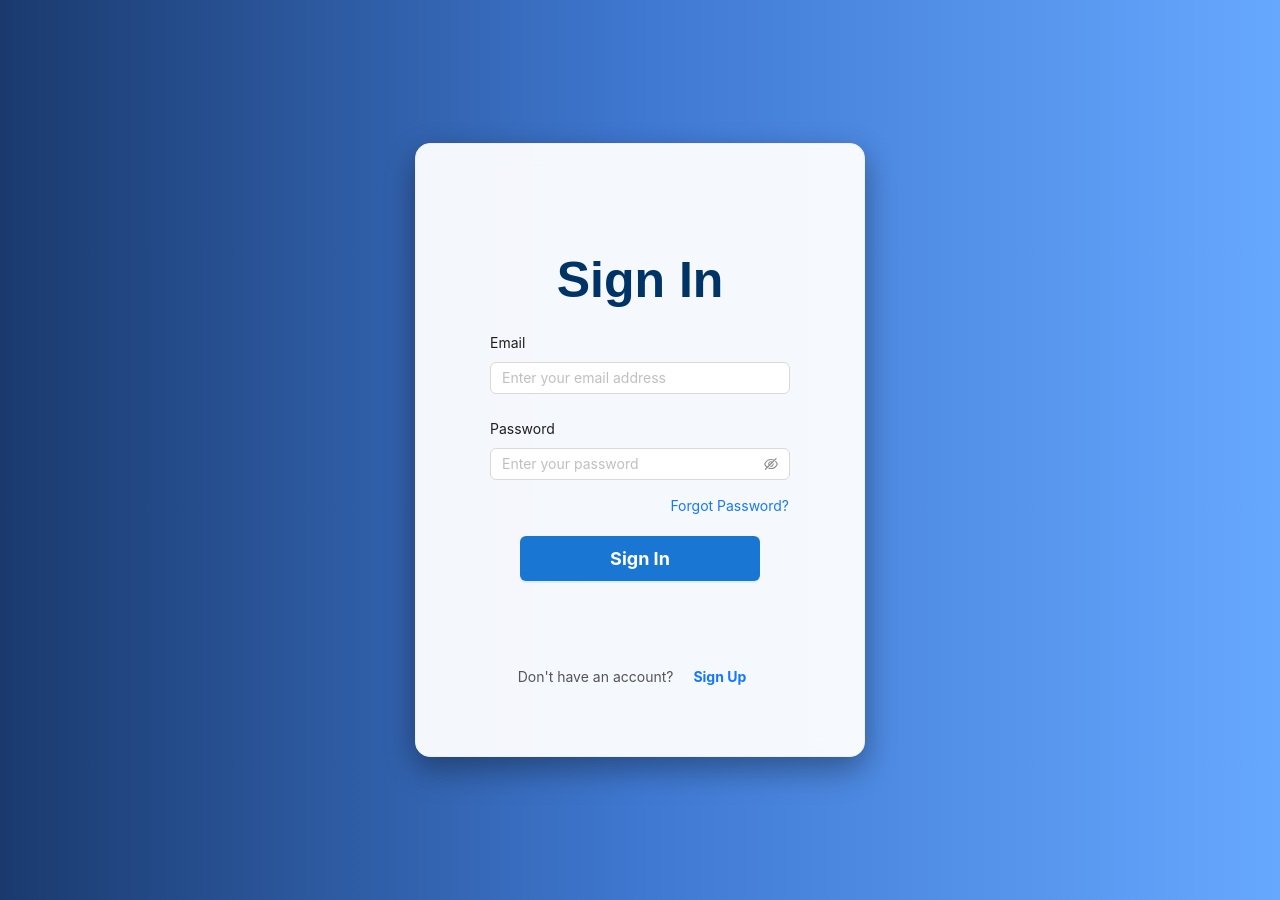
Test: Login Page › validates form fields and shows error messages
This screenshot has width=1280, height=900.
点击提交按钮但不输入任何内容
Step 1. Click the button "Sign In" → (640, 559), box 520,536 -> 760,581
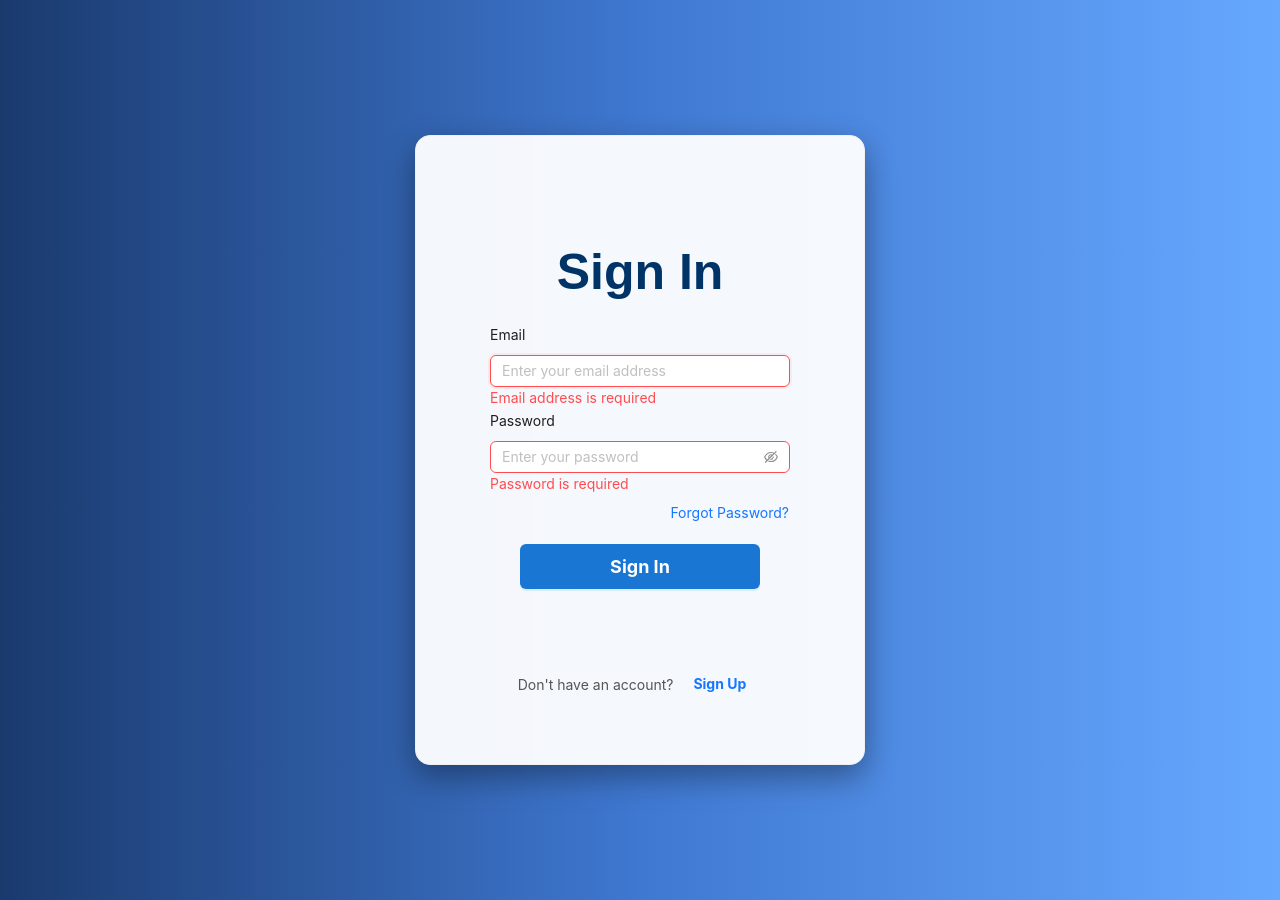
Check: the text "Email address is required" is shown, box 490,389 -> 656,406
Check: the text "Password is required" is shown, box 490,475 -> 629,492
